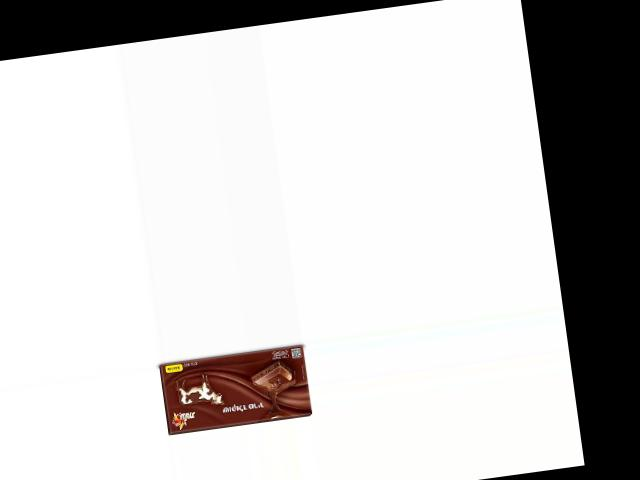chocolate: (155, 344, 311, 436)
